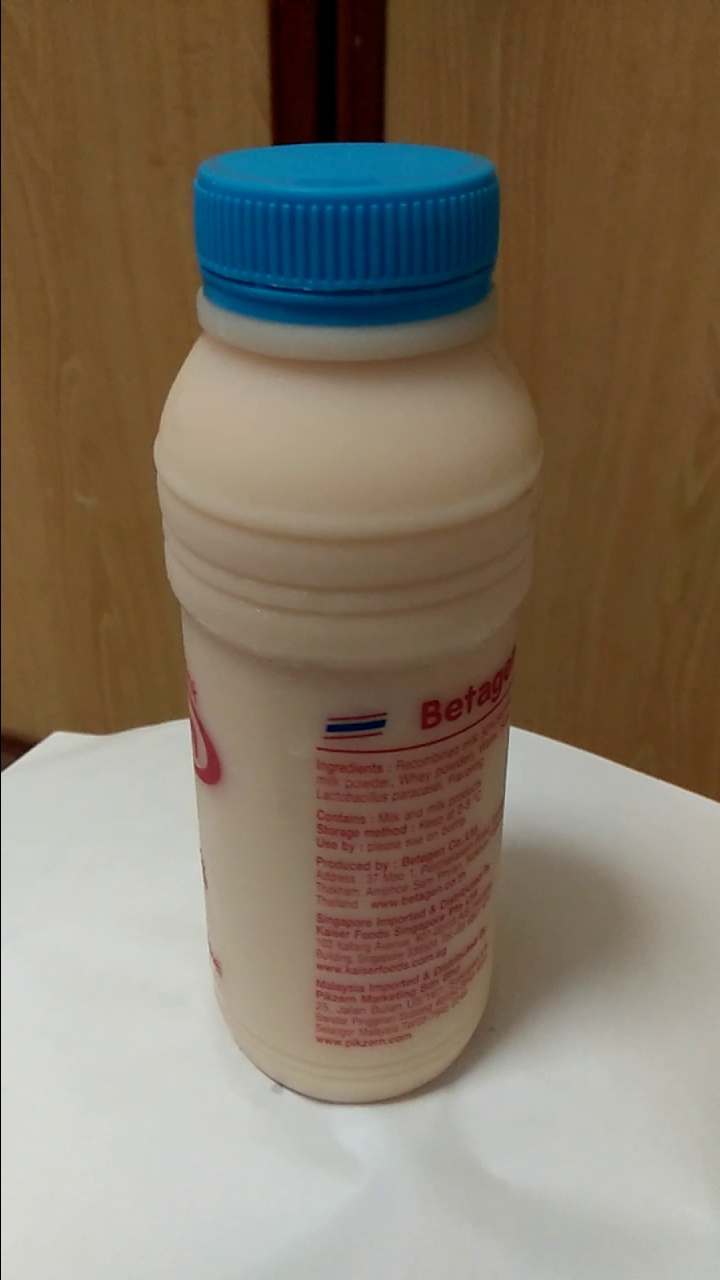mlik2: (162, 135, 521, 1110)
